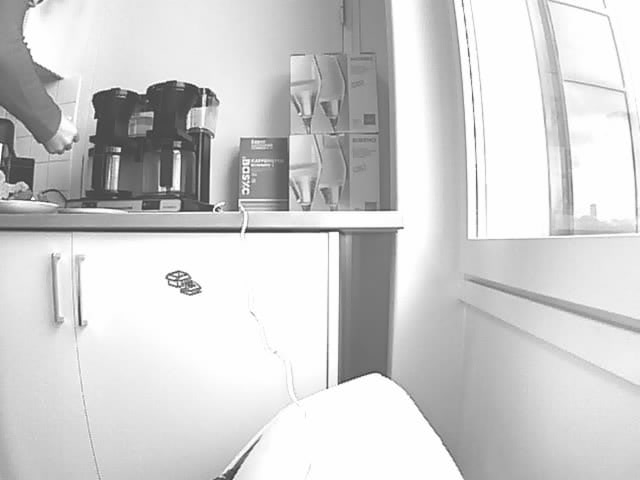not empty coffee: (80, 143, 141, 201)
